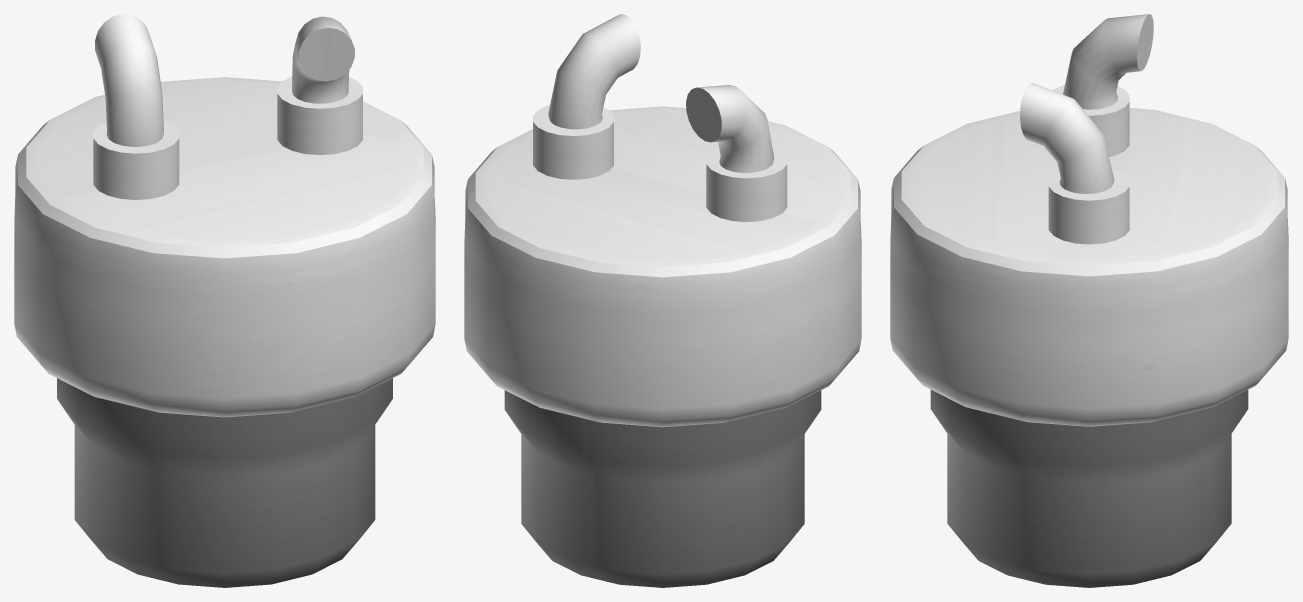
File: Lightbulb_w_Textures.fbx
3 views of the same model, side by side, from view 1: azimuth 30°, elevation 25°; view 2: azimuth 150°, elevation 25°; view 3: azimuth 270°, elevation 25° (orthographic). The views are drawn at different scales.
Visible parts, largest first — view 1: Cylinder002, Cylinder001, Cylinder006, Cylinder003, Cylinder004, Cylinder005; view 2: Cylinder002, Cylinder001, Cylinder005, Cylinder006, Cylinder004, Cylinder003; view 3: Cylinder002, Cylinder001, Cylinder005, Cylinder006, Cylinder004, Cylinder003.
Boxes of the visible parts, x1,y1,x2,y2 form: Cylinder002: (14,77,435,417); Cylinder001: (57,378,392,587); Cylinder006: (95,14,163,146); Cylinder003: (93,121,179,199); Cylinder004: (277,76,362,155); Cylinder005: (292,16,354,103); Cylinder002: (464,106,861,427); Cylinder001: (504,390,821,587); Cylinder005: (548,14,640,129); Cylinder006: (686,85,774,172); Cylinder004: (533,105,613,179); Cylinder003: (706,147,787,221); Cylinder002: (890,108,1288,426); Cylinder001: (930,390,1248,587); Cylinder005: (1020,82,1114,193); Cylinder006: (1063,14,1153,109); Cylinder004: (1048,169,1129,244); Cylinder003: (1053,84,1129,156).
Size of the model in its own units: 6.11 by 8.08 by 6.02.
